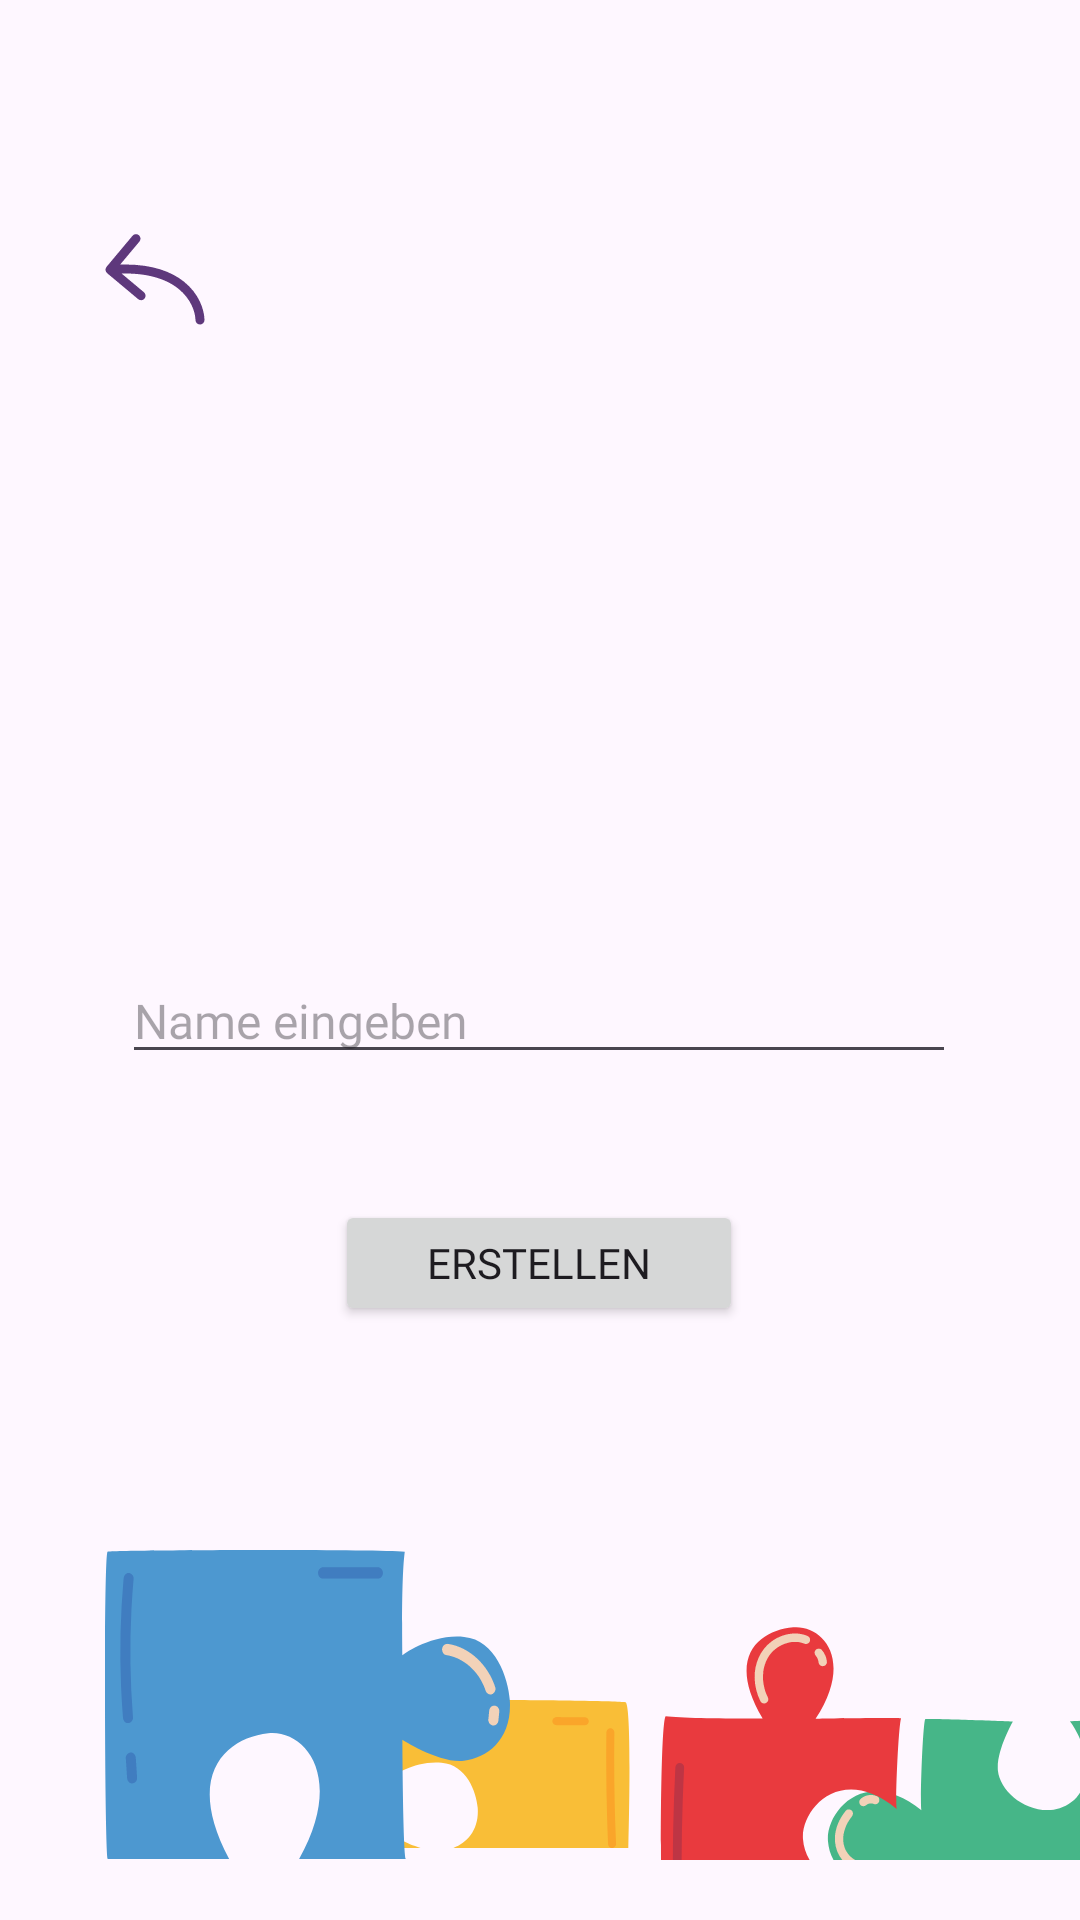

Icons on this 1080 x 1920 Android screen, each with the point to tap as (x=x, y=y):
back: (x=155, y=279)
